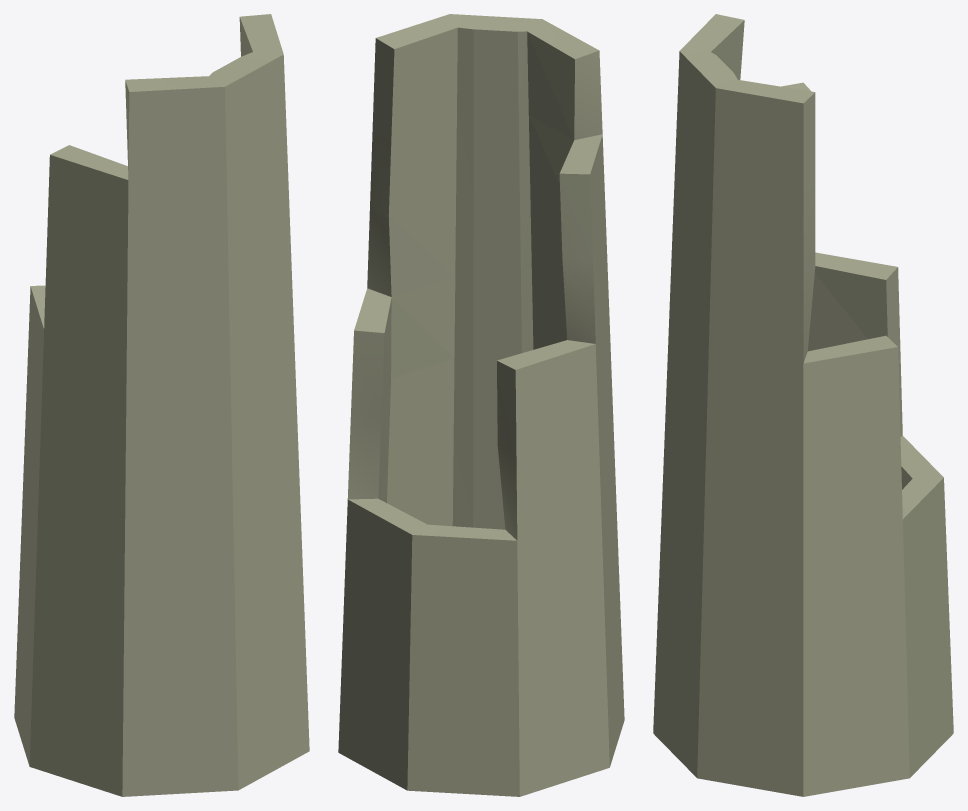
The model's file is M_Lighthouse.FBX.
3 views of the same model, side by side, from view 1: azimuth 30°, elevation 25°; view 2: azimuth 150°, elevation 25°; view 3: azimuth 270°, elevation 25° (orthographic). The views are drawn at different scales.
Parts seen in each view (by area): view 1: M_Lighthouse; view 2: M_Lighthouse; view 3: M_Lighthouse.
Part boxes in pixels (x1=…): M_Lighthouse: x1=14, y1=14, x2=309, y2=796; M_Lighthouse: x1=338, y1=14, x2=624, y2=796; M_Lighthouse: x1=653, y1=14, x2=953, y2=796.
Size of the model in its own units: 400 by 1003 by 400.
